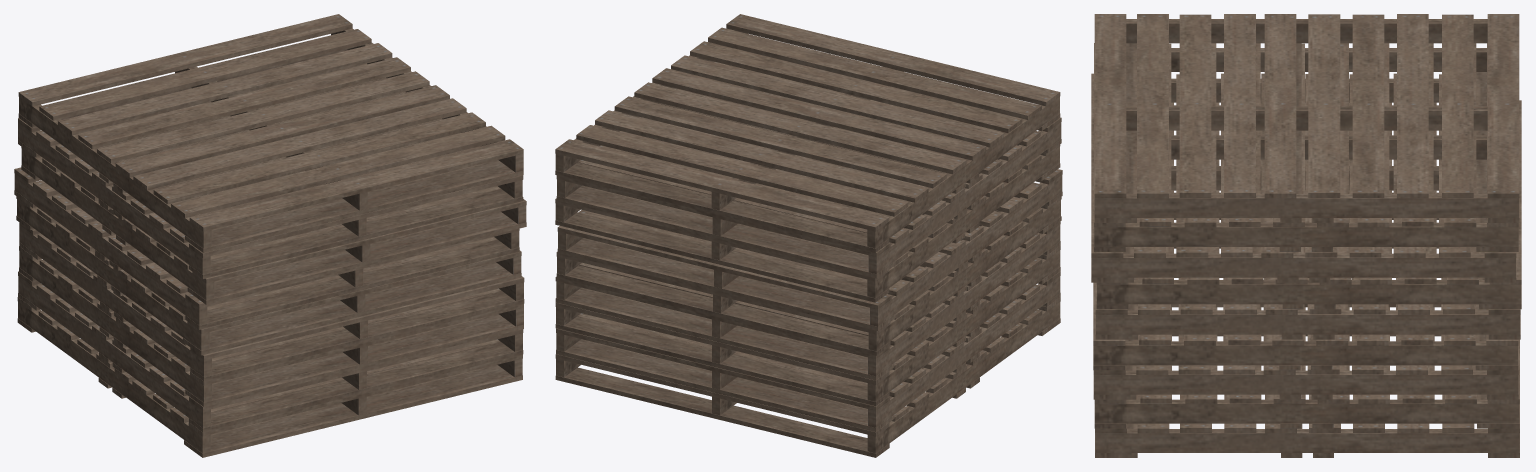
File: SM_Pallet_4_Stack.fbx
3 views of the same model, side by side, from view 1: azimuth 30°, elevation 25°; view 2: azimuth 150°, elevation 25°; view 3: azimuth 270°, elevation 25° (orthographic). The views are drawn at different scales.
Visible parts, largest first — view 1: SM_Pallet_4_Stack_LOD0; view 2: SM_Pallet_4_Stack_LOD0; view 3: SM_Pallet_4_Stack_LOD0.
Boxes of the visible parts, bbox=[...] form: SM_Pallet_4_Stack_LOD0: bbox=[14, 14, 526, 457]; SM_Pallet_4_Stack_LOD0: bbox=[555, 14, 1062, 457]; SM_Pallet_4_Stack_LOD0: bbox=[1091, 14, 1521, 457].
Size of the model in its own units: 162 by 162 by 110.
Materials: 1 (1 with a texture image).
